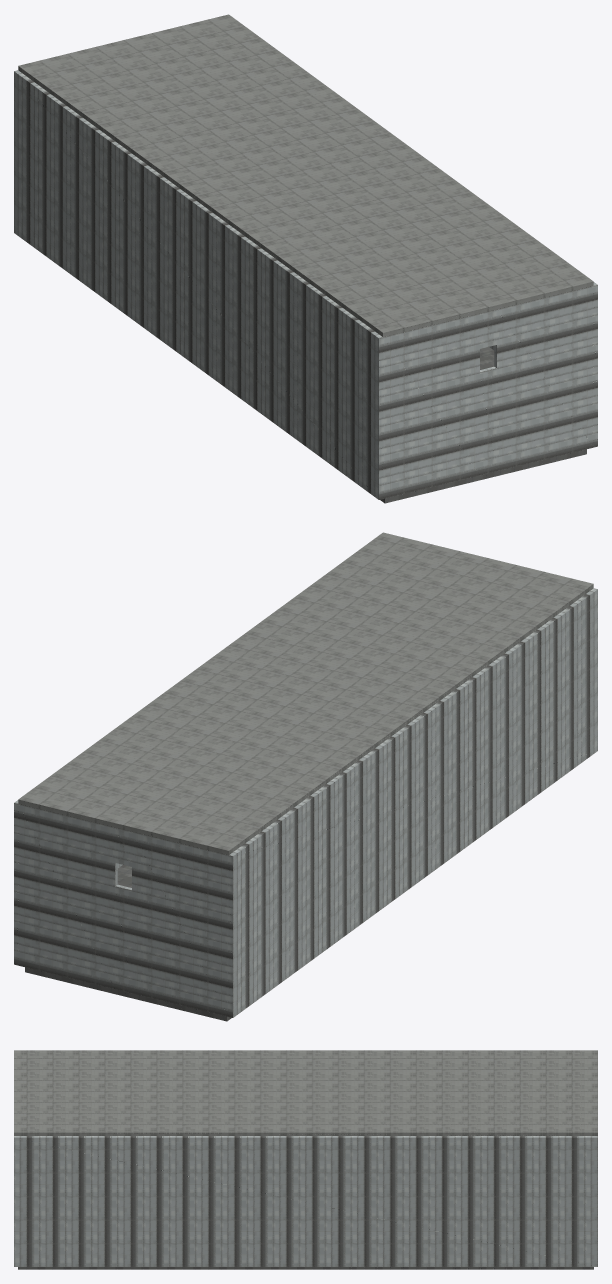
The model's file is shell_span_basin.glb.
The picture shows the model from 3 angles, top to bottom: view 1: azimuth 30°, elevation 25°; view 2: azimuth 150°, elevation 25°; view 3: azimuth 270°, elevation 25°; orthographic projection. The views are drawn at different scales.
Parts seen in each view (by area): view 1: sp; view 2: sp; view 3: sp.
Boxes of the visible parts, <box> form: sp: <box>14,14,597,503</box>; sp: <box>14,532,597,1021</box>; sp: <box>14,1050,597,1269</box>.
Size of what is drawn, in the model's own units: 31.2 by 23.6 by 90.
Materials: 56 (56 with a texture image).
